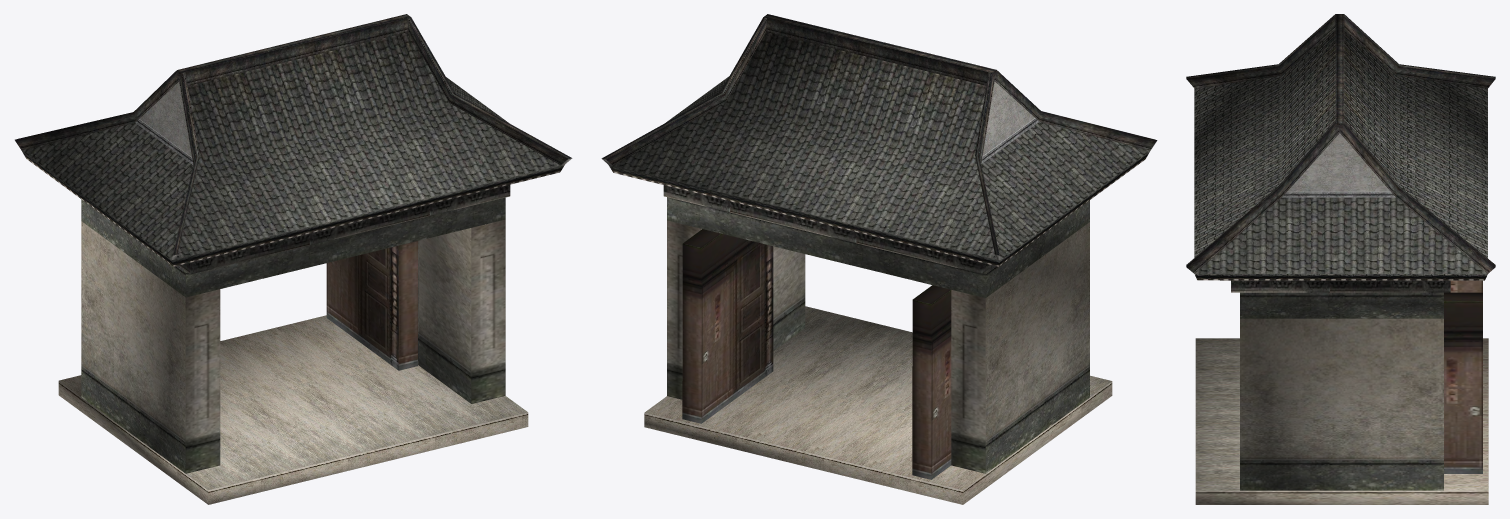
Rendered from cj_rich1_smalldoor.glb.
3 views of the same model, side by side, from view 1: azimuth 30°, elevation 25°; view 2: azimuth 150°, elevation 25°; view 3: azimuth 270°, elevation 25° (orthographic). The views are drawn at different scales.
Parts seen in each view (by area): view 1: CJ_rich1_smador_wall, CJ_rich1_smador_roof; view 2: CJ_rich1_smador_wall, CJ_rich1_smador_roof; view 3: CJ_rich1_smador_roof, CJ_rich1_smador_wall.
Boxes of the visible parts, <box> form: CJ_rich1_smador_wall: <box>58,185,528,504</box>; CJ_rich1_smador_roof: <box>15,14,572,266</box>; CJ_rich1_smador_wall: <box>644,185,1112,504</box>; CJ_rich1_smador_roof: <box>601,14,1157,266</box>; CJ_rich1_smador_roof: <box>1186,14,1495,280</box>; CJ_rich1_smador_wall: <box>1195,280,1488,504</box>.
Size of the model in its own units: 7.75 by 6.82 by 5.32.
2 materials, 2 textured.
